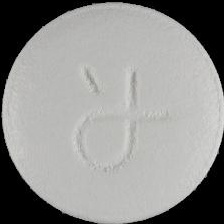53808-0796: (0, 0, 224, 224)
